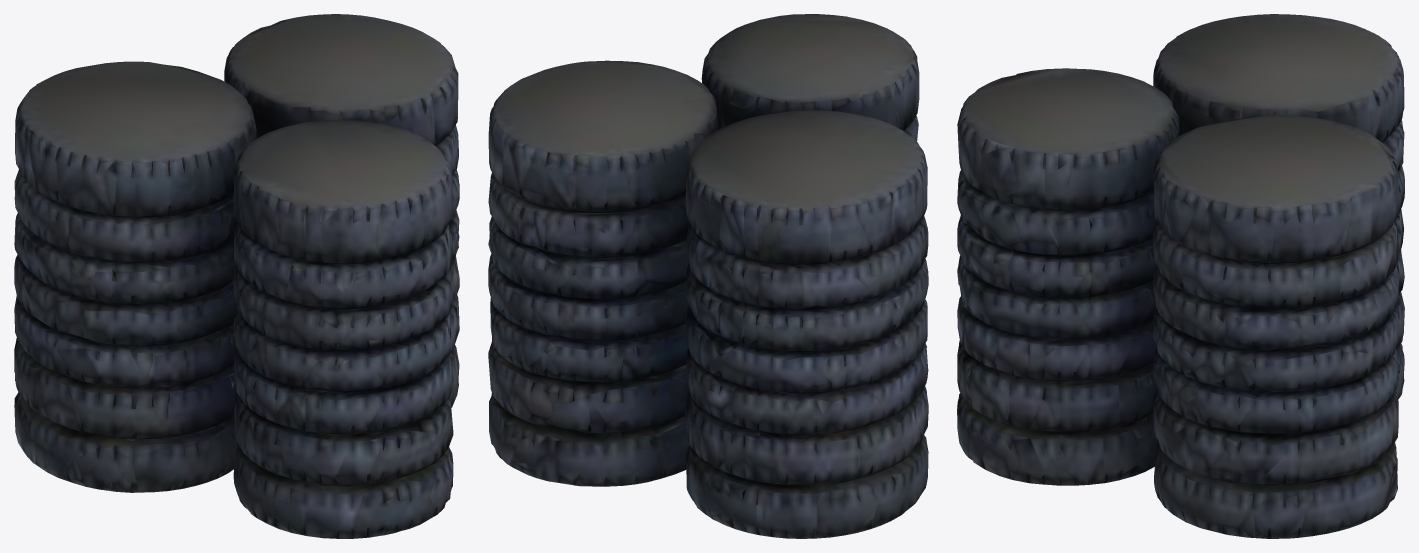
File: prop_tires.glb
3 renders of one model, left to right at view 1: azimuth 30°, elevation 25°; view 2: azimuth 150°, elevation 25°; view 3: azimuth 270°, elevation 25°, orthographic.
Visible parts, largest first — view 1: node_0; view 2: node_0; view 3: node_0.
Boxes of the visible parts, <box> form: node_0: <box>14,14,459,538</box>; node_0: <box>488,14,928,538</box>; node_0: <box>957,14,1404,538</box>.
Size of the model in its own units: 0.8698 by 0.6803 by 0.8271.
Materials: 1 (1 with a texture image).
